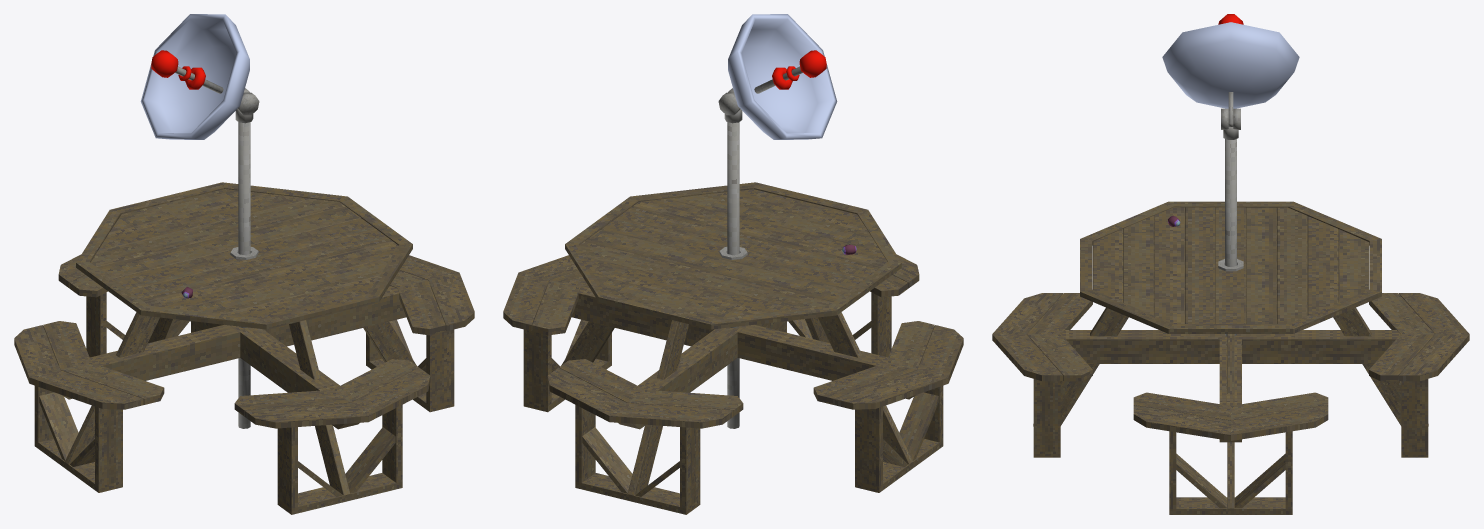
The model's file is space_table.fbx.
3 views of the same model, side by side, from view 1: azimuth 30°, elevation 25°; view 2: azimuth 150°, elevation 25°; view 3: azimuth 270°, elevation 25° (orthographic). The views are drawn at different scales.
Parts seen in each view (by area): view 1: TableTop, Seats, SeatSupports, SatelliteDish, MiddleSupport, Trim, AngularSupports, SatellitePole; view 2: TableTop, Seats, SeatSupports, SatelliteDish, MiddleSupport, Trim, AngularSupports, SatellitePole; view 3: TableTop, Seats, MiddleSupport, SatelliteDish, SeatSupports, Trim, AngularSupports, SatellitePole.
Boxes of the visible parts, left/top/right/bottom form: TableTop: left=90, top=189, right=398, bottom=318; Seats: left=14, top=254, right=474, bottom=428; SeatSupports: left=34, top=292, right=454, bottom=514; SatelliteDish: left=140, top=14, right=259, bottom=139; MiddleSupport: left=58, top=280, right=430, bottom=429; Trim: left=76, top=182, right=412, bottom=329; AngularSupports: left=65, top=312, right=416, bottom=495; SatellitePole: left=235, top=109, right=253, bottom=428; TableTop: left=579, top=189, right=887, bottom=318; Seats: left=503, top=254, right=963, bottom=428; SeatSupports: left=523, top=292, right=943, bottom=514; SatelliteDish: left=718, top=14, right=837, bottom=139; MiddleSupport: left=547, top=280, right=919, bottom=429; Trim: left=565, top=182, right=901, bottom=329; AngularSupports: left=561, top=312, right=912, bottom=495; SatellitePole: left=724, top=109, right=742, bottom=428; TableTop: left=1092, top=207, right=1369, bottom=323; Seats: left=992, top=293, right=1469, bottom=440; MiddleSupport: left=1026, top=330, right=1435, bottom=442; SatelliteDish: left=1162, top=14, right=1299, bottom=129; SeatSupports: left=1033, top=379, right=1428, bottom=514; Trim: left=1080, top=201, right=1381, bottom=333; AngularSupports: left=1033, top=307, right=1428, bottom=508; SatellitePole: left=1223, top=127, right=1238, bottom=336.
Bounding box in the file's own units: 3510 × 3248 × 3510.
